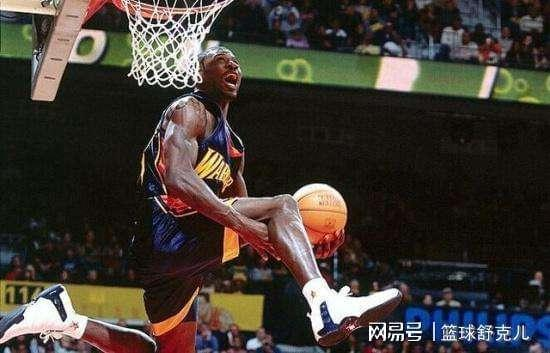ball: (292, 183, 349, 240)
human: (0, 43, 404, 353)
rim: (113, 0, 237, 89)
